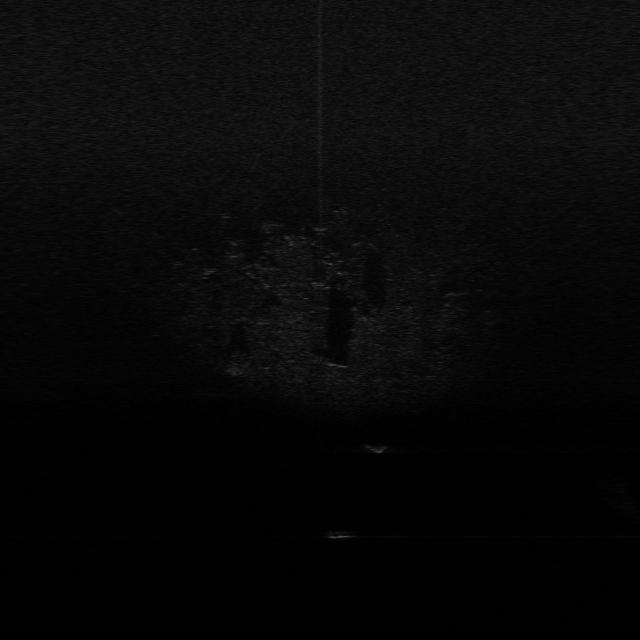cube: (320, 530, 360, 540)
square cage: (363, 443, 392, 455)
